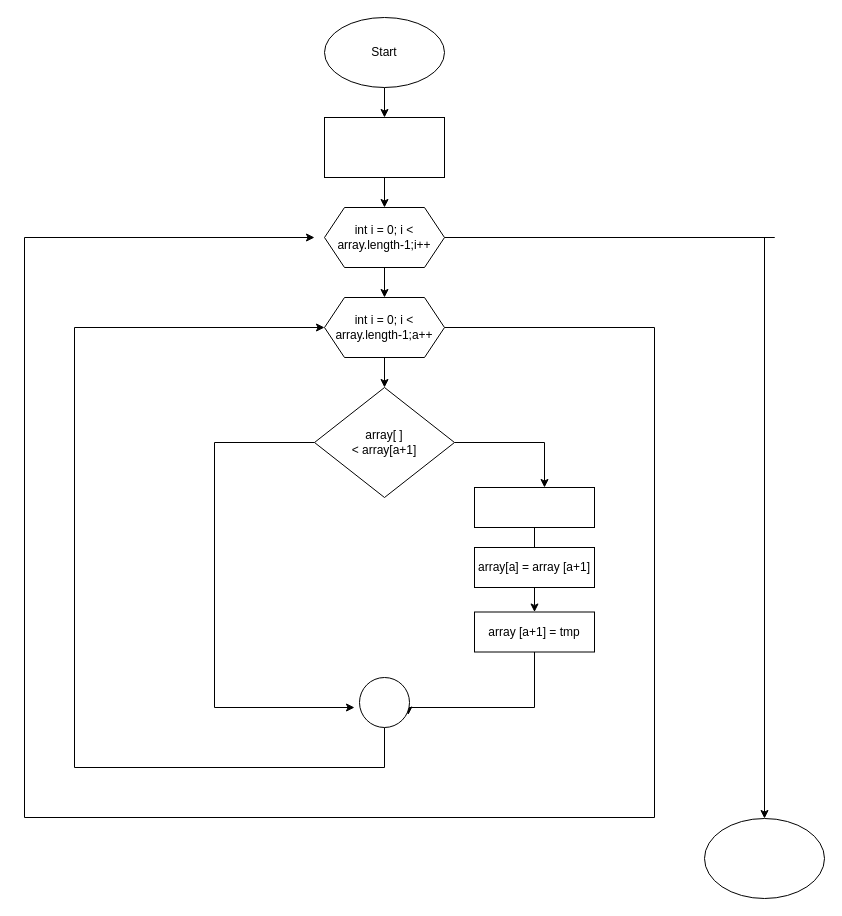
Some shapes in this 842 by 916 pixel diagram are drawn without their labels. The shapes that lost their labels are listed below. From the top down, each one's centre as x and y in pixels, then its label:
At [384,147]: "int [ ]array ={5,4,6,8,2}".
At [534,507]: "tmp = array[a]".
At [764,858]: "end".
